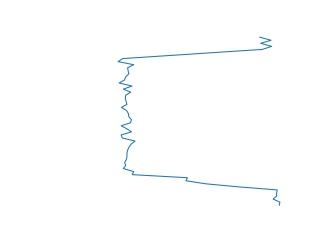distributaryChannelFill: (114, 36, 285, 207)
